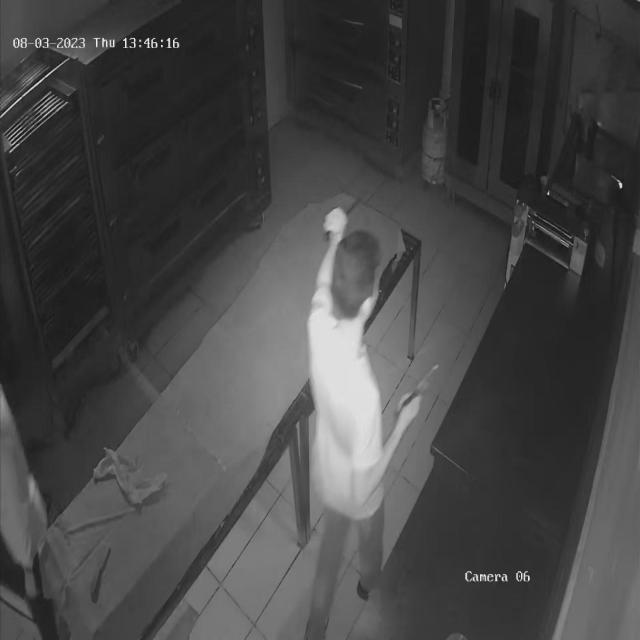Knife: (317, 182, 374, 231)
